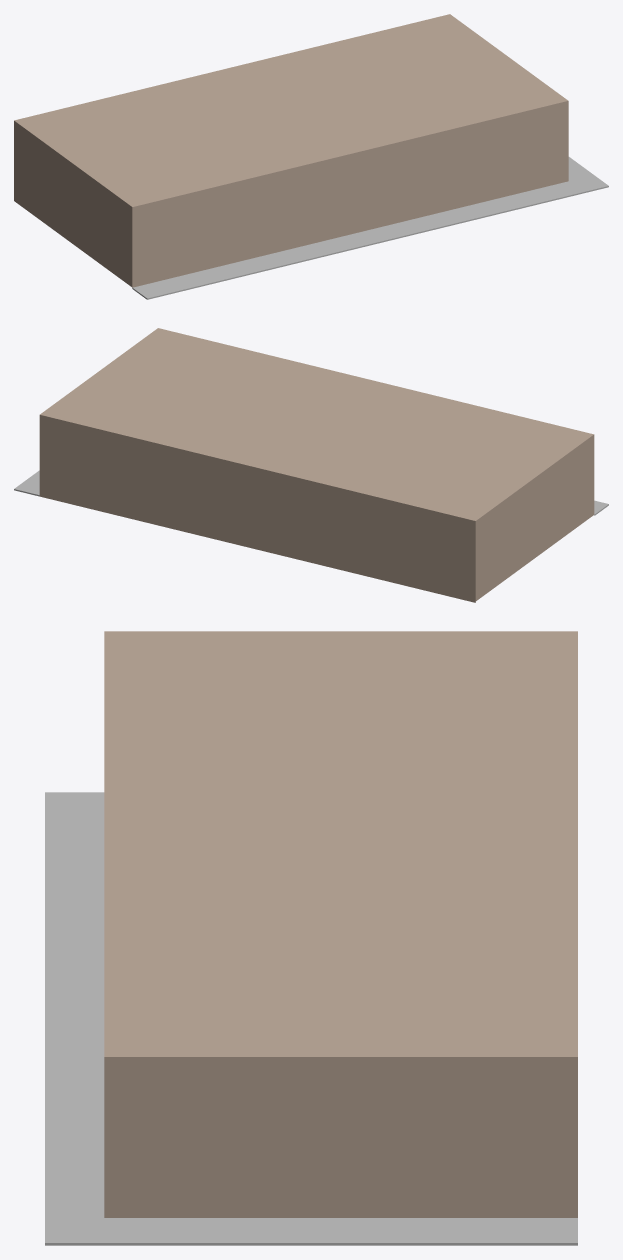
Rendered from bus_station.glb.
3 renders of one model, top to bottom at view 1: azimuth 30°, elevation 25°; view 2: azimuth 150°, elevation 25°; view 3: azimuth 270°, elevation 25°, orthographic. The views are drawn at different scales.
Visible parts, largest first — view 1: Plane; view 2: Plane; view 3: Plane.
Part boxes in pixels (<box>): Plane: <box>14,14,608,299</box>; Plane: <box>14,328,608,602</box>; Plane: <box>45,631,577,1245</box>.
Size of what is drawn, in the model's own units: 36 by 6.1 by 18.
